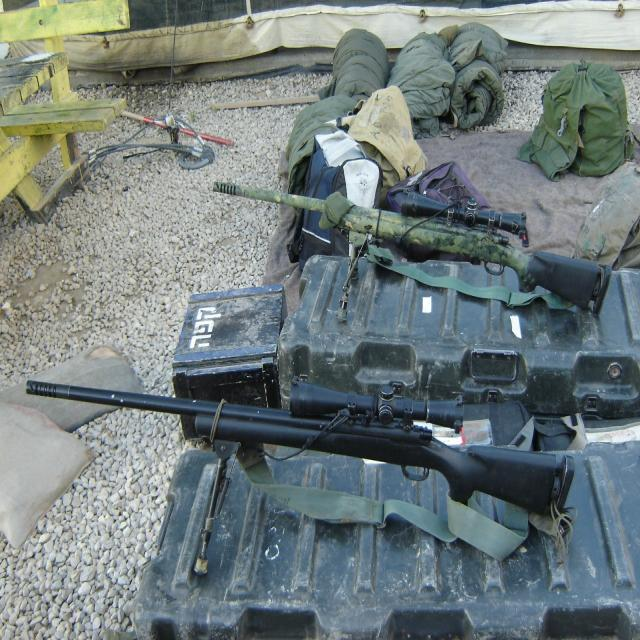firearm: (27, 380, 574, 521), (212, 178, 611, 313)
